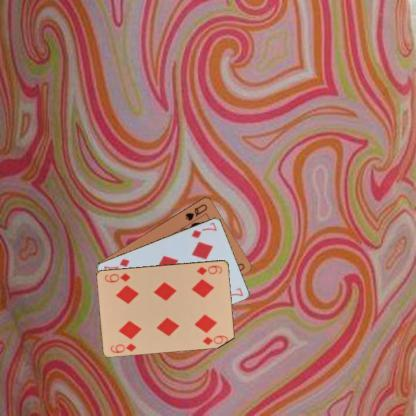6d: (194, 262, 224, 276), (108, 340, 138, 354)
7d: (189, 219, 218, 240)
Qs: (182, 201, 209, 222)
